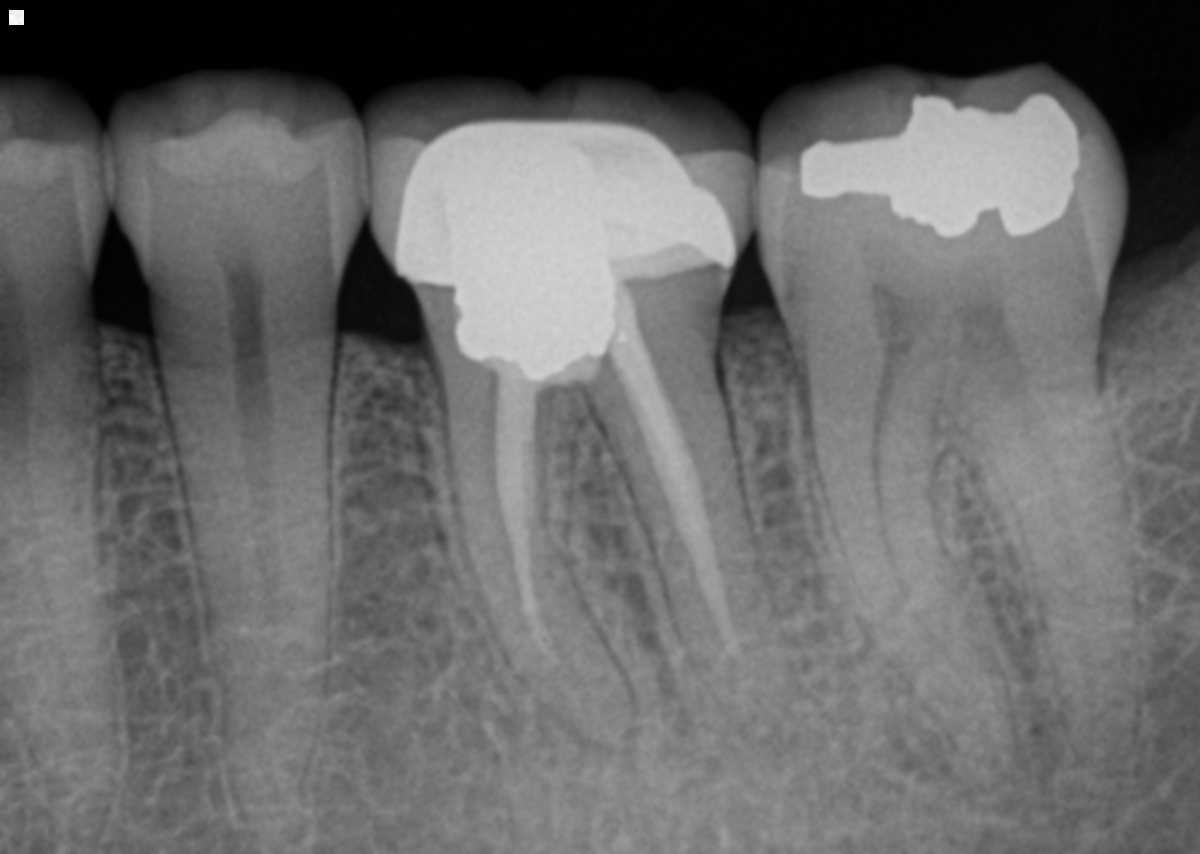Apical Lesion: (957, 730, 1054, 809), (538, 700, 644, 765)
Distal Canal: (1005, 380, 1100, 752)
Distal Root: (582, 341, 783, 711), (969, 359, 1140, 768)
Main Canal: (0, 326, 69, 678), (229, 345, 280, 711)
Main Root: (152, 341, 335, 845), (0, 324, 123, 801)
Mesial Canal: (868, 385, 993, 762)
Mesial Root: (805, 364, 1011, 786), (441, 379, 634, 742)
Root Canal Filling: (608, 286, 746, 660), (497, 390, 567, 669)
